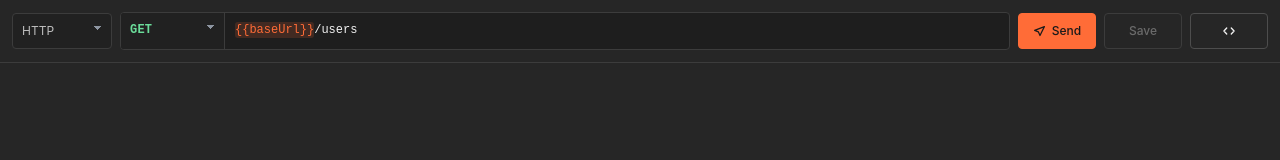
Test: UrlBar variables › still tells you about a URL variable on hover
This screenshot has width=1280, height=160.
Hover over the text "{{baseUrl}}" at (275, 30), box top-left (235, 22), bottom-right (314, 38)
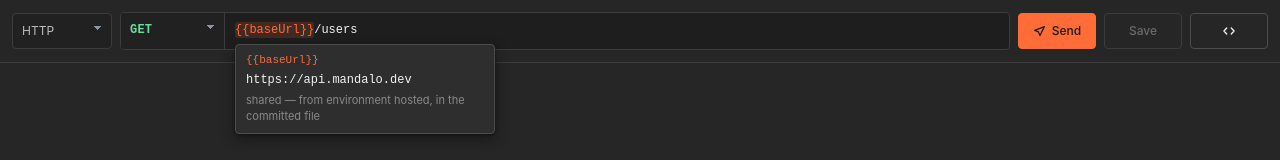
Expected: the tooltip shows "https://api.mandalo.dev", top-left (246, 73), bottom-right (412, 87)
